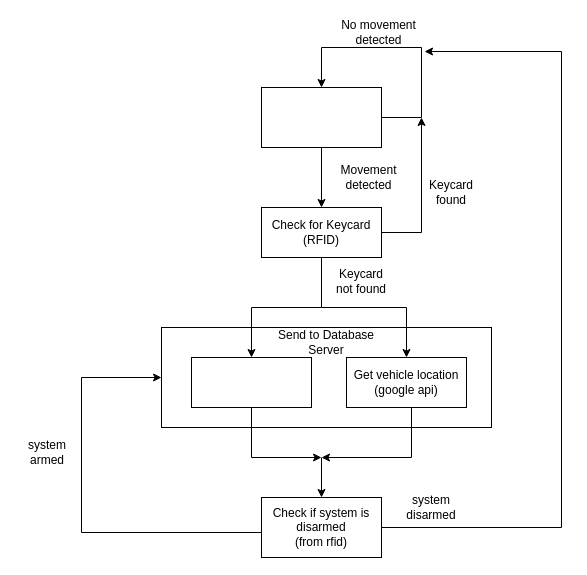
The diagram is 587 pixels wide and 575 high, and some of its shapes have lost their labels. Each missing label, with the centre of its shape:
Check Movement (PIR Sensor): the point at 321,117
Start Video Stream: the point at 251,382
